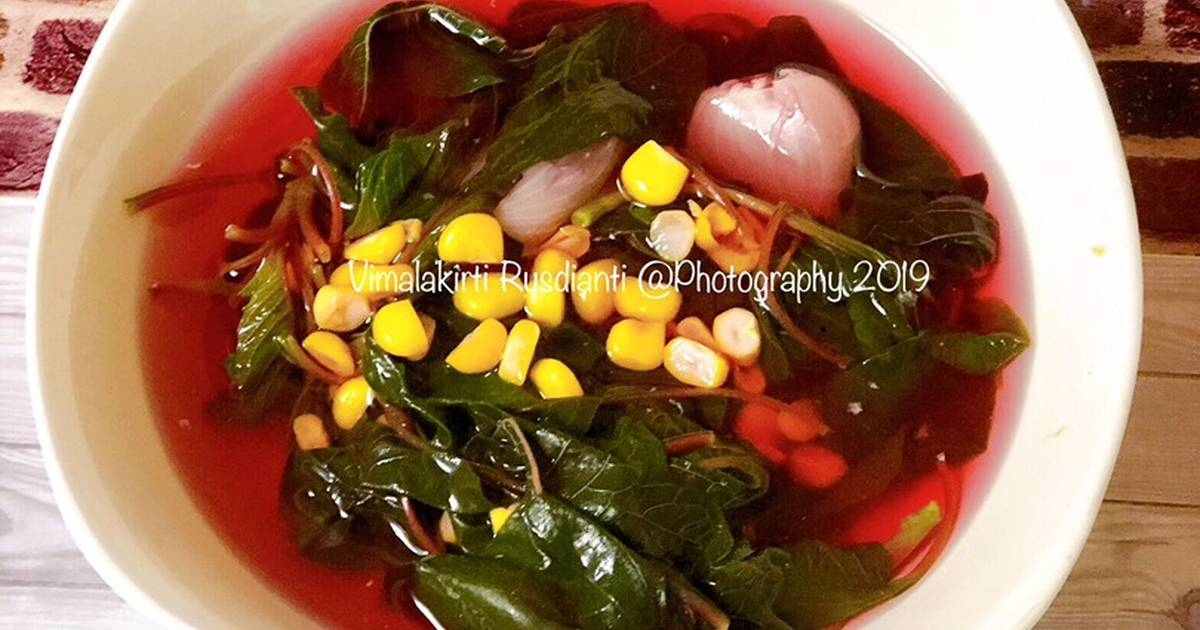Sayur Bayam: (186, 39, 1034, 604)
